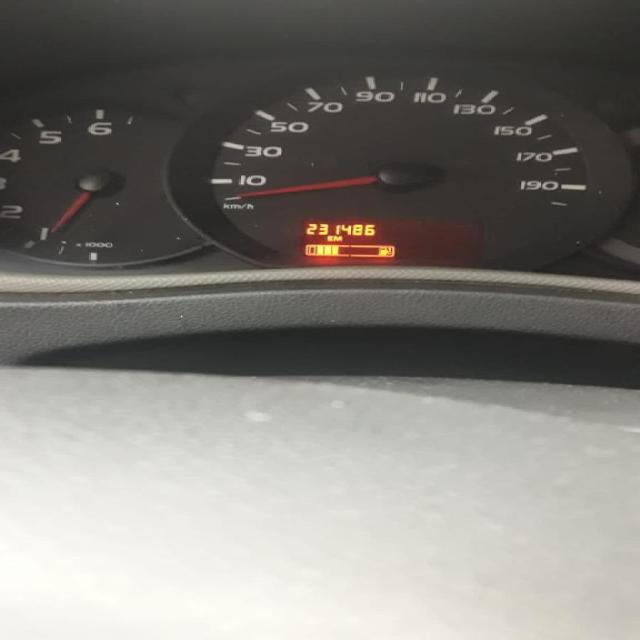odometer: (298, 218, 486, 266)
